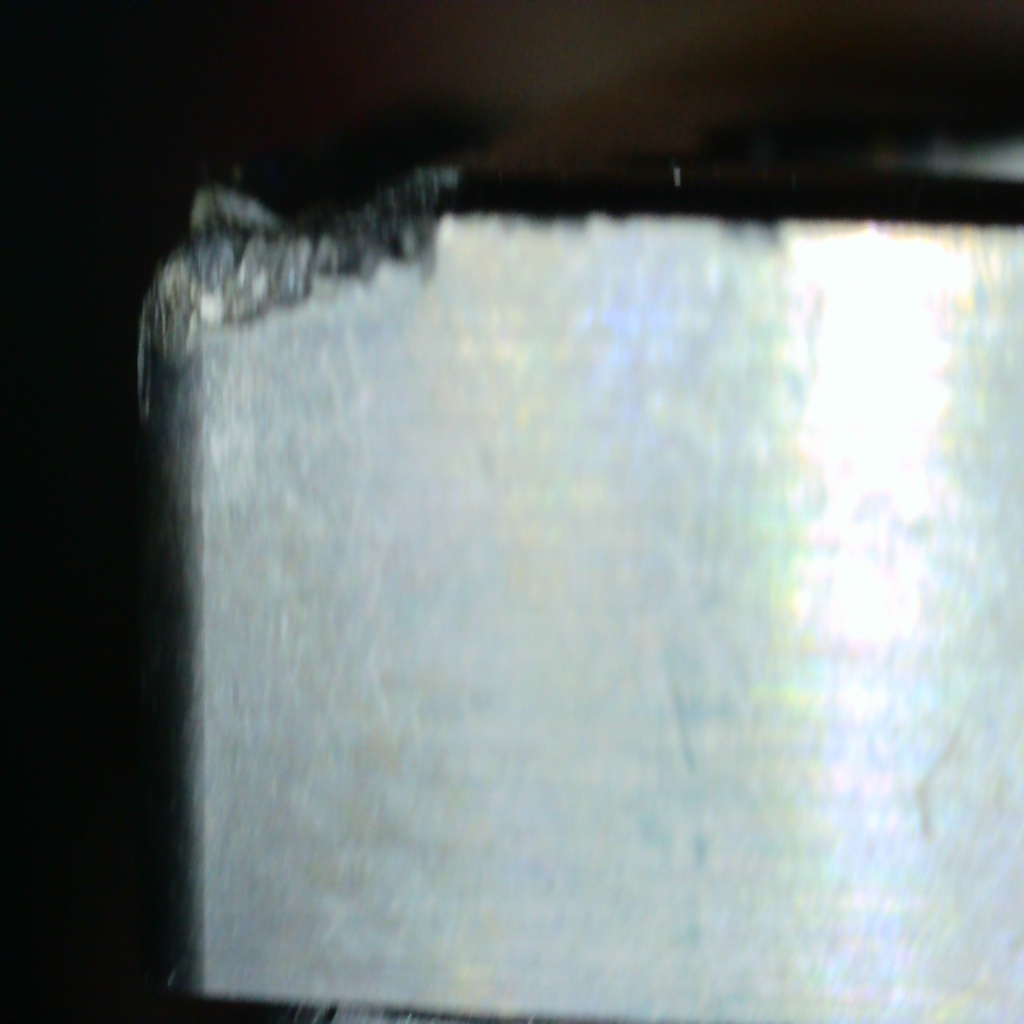flank_wear: (140, 217, 435, 423)
